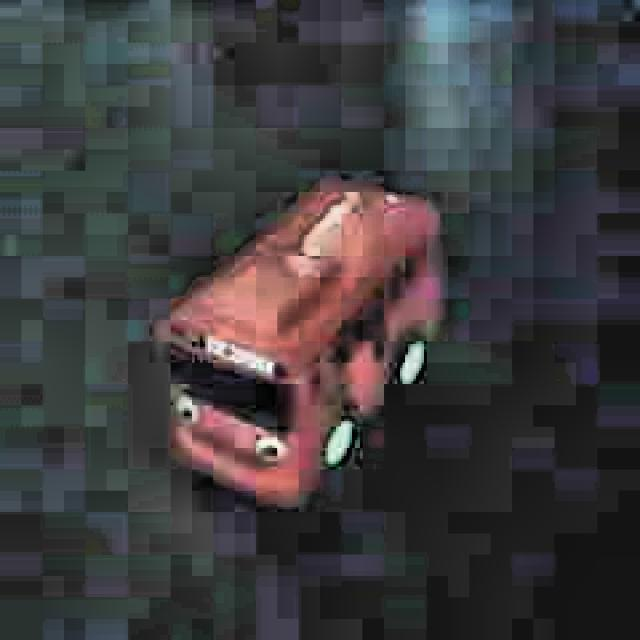bus: (147, 165, 468, 530)
